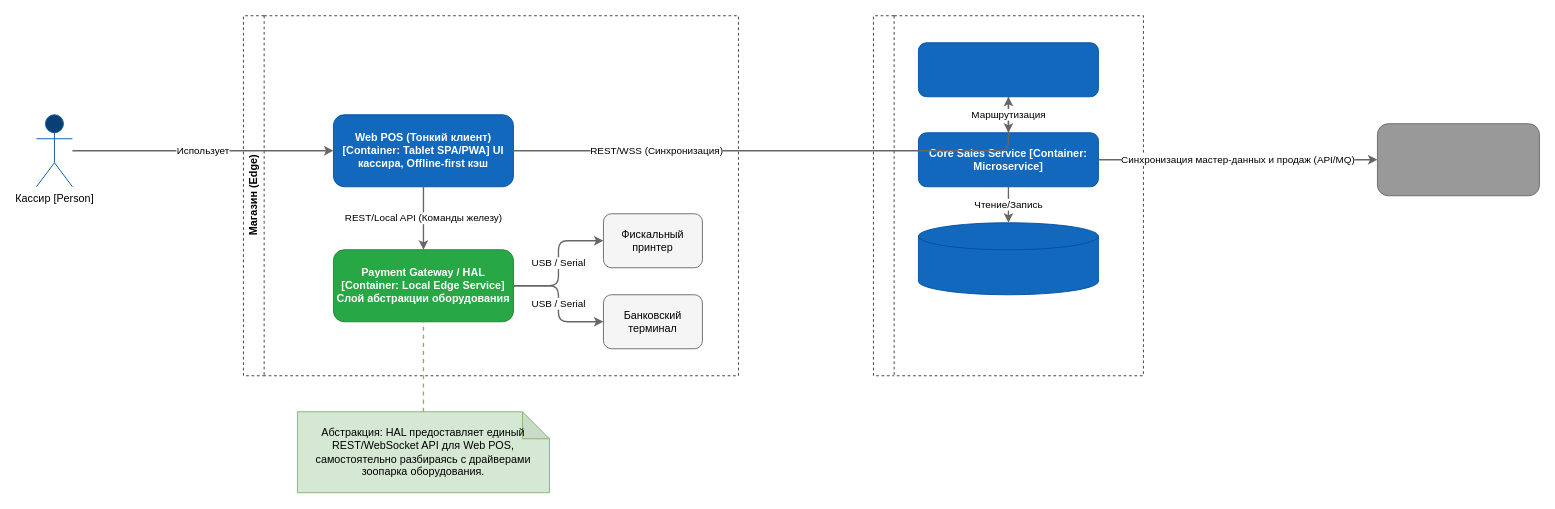
The diagram is 1555 pixels wide and 509 high, and some of its shapes have lost their labels. The box of each missing label's shape, as (x1, y1, x2, y2) in pixels:
Cloud API Gateway [Container]: (918, 42, 1098, 97)
Managed Cloud DB [Container: PaaS DB]: (918, 222, 1098, 295)
SAP ERP [Software System] HQ: (1377, 123, 1539, 196)
Облако (Cloud Backend): (873, 15, 1143, 376)
